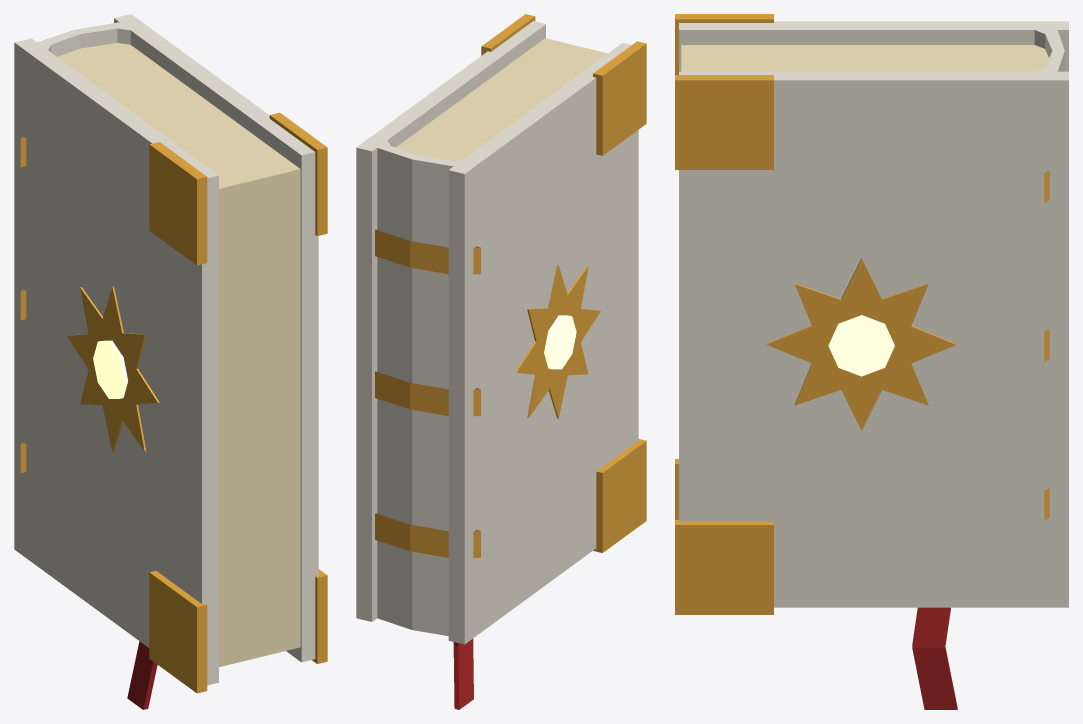
Rendered from W2_HolyBook.fbx.
3 views of the same model, side by side, from view 1: azimuth 30°, elevation 25°; view 2: azimuth 150°, elevation 25°; view 3: azimuth 270°, elevation 25° (orthographic). The views are drawn at different scales.
Visible parts, largest first — view 1: W2_HolyBook; view 2: W2_HolyBook; view 3: W2_HolyBook.
Boxes of the visible parts, left/top/right/bottom form: W2_HolyBook: left=14, top=14, right=327, bottom=709; W2_HolyBook: left=356, top=14, right=646, bottom=709; W2_HolyBook: left=675, top=14, right=1068, bottom=709.
Size of the model in its own units: 7.6 by 35.3 by 19.1.
